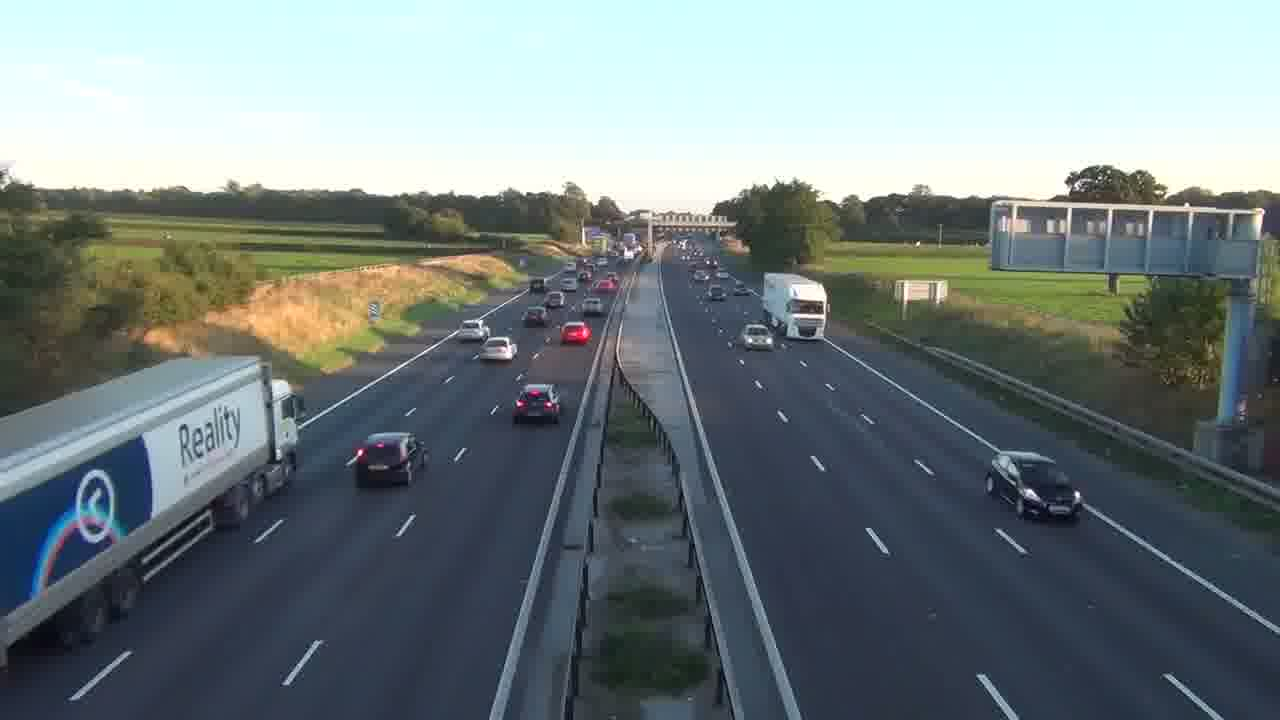car: (985, 449, 1083, 522), (345, 431, 430, 487), (512, 384, 561, 424), (478, 335, 517, 361), (741, 322, 775, 351), (559, 321, 592, 345), (457, 319, 489, 343)
truck: (0, 353, 304, 628), (763, 273, 829, 341)
